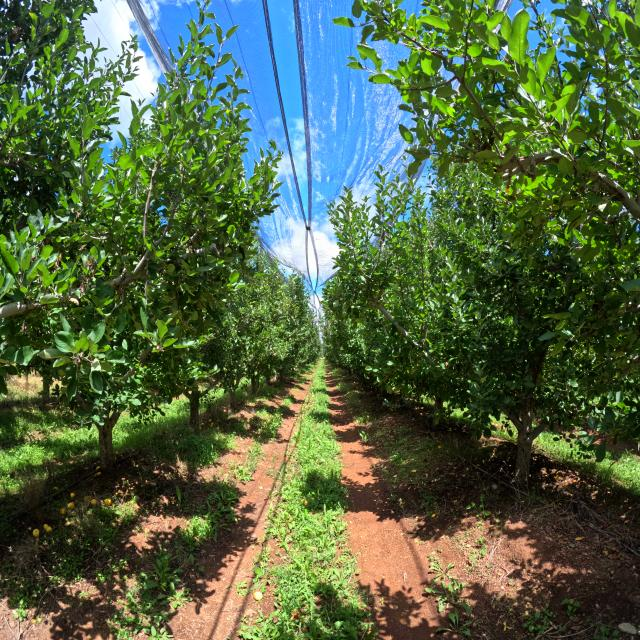-FireBlight-: (78, 255, 99, 298)
